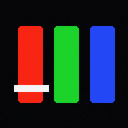3 line_h: (14, 85, 48, 91)
